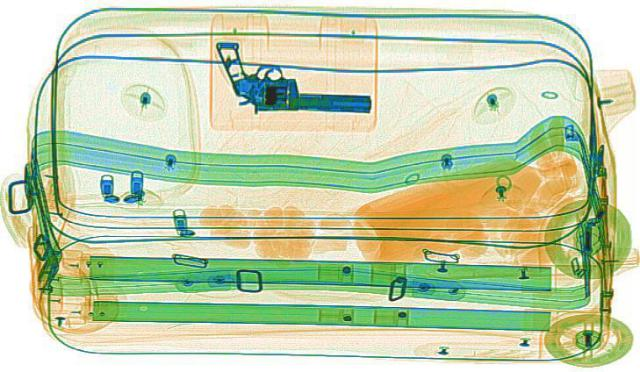Gun: (204, 38, 380, 115)
